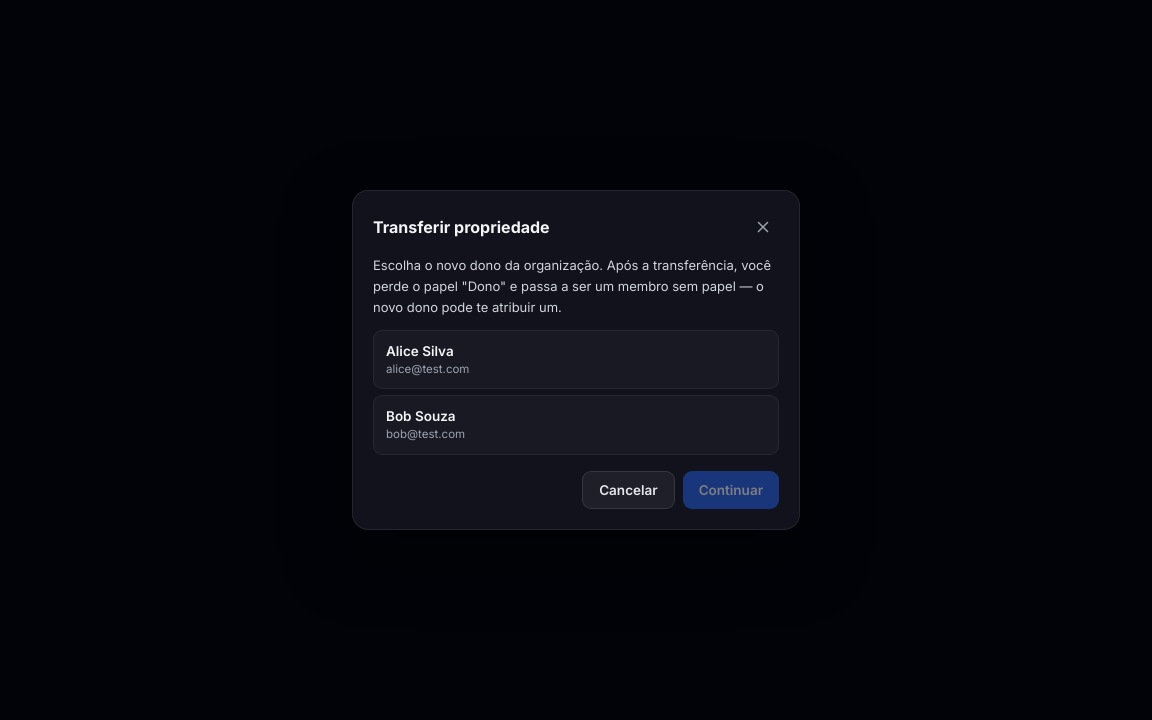
TransferOwnershipModal › "Continuar" fica desabilitado até um candidato ser selecionado; depois disabled=false
The width and height of the screenshot is (1152, 720).
Expected: the button "Continuar" is disabled, [683,471,779,509]
Click the text "Alice Silva" at (420, 351), box [386,343,454,359]
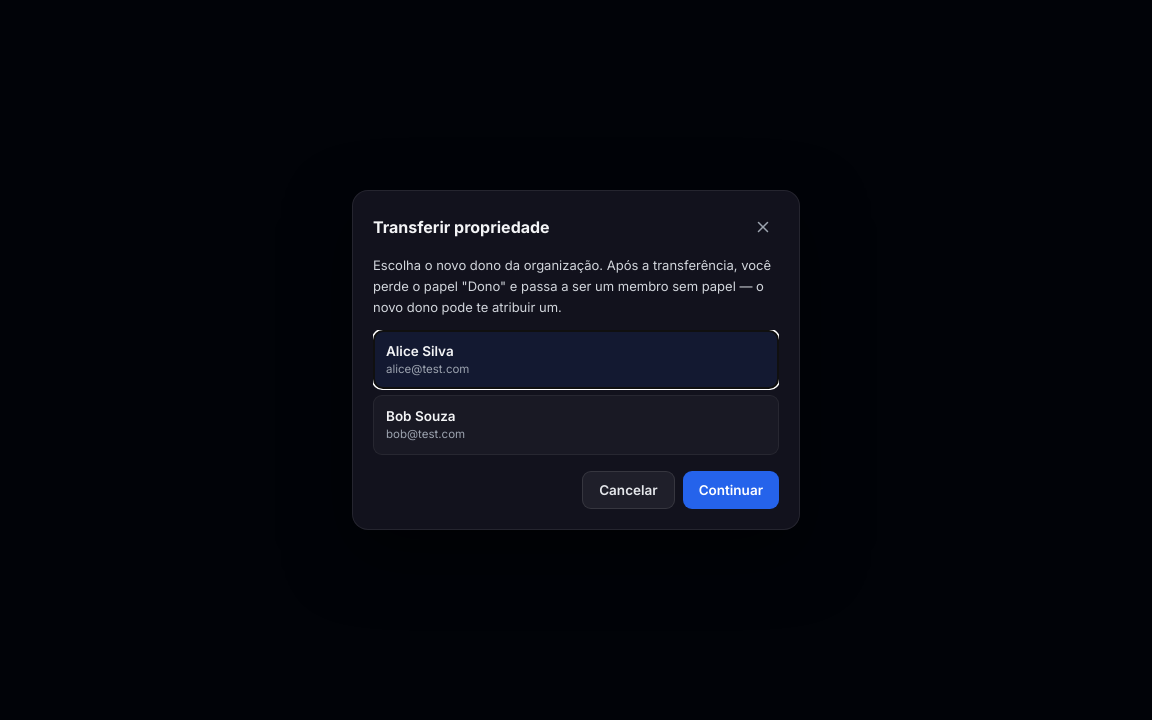
Expected: the button "Continuar" is enabled, [683,471,779,509]
